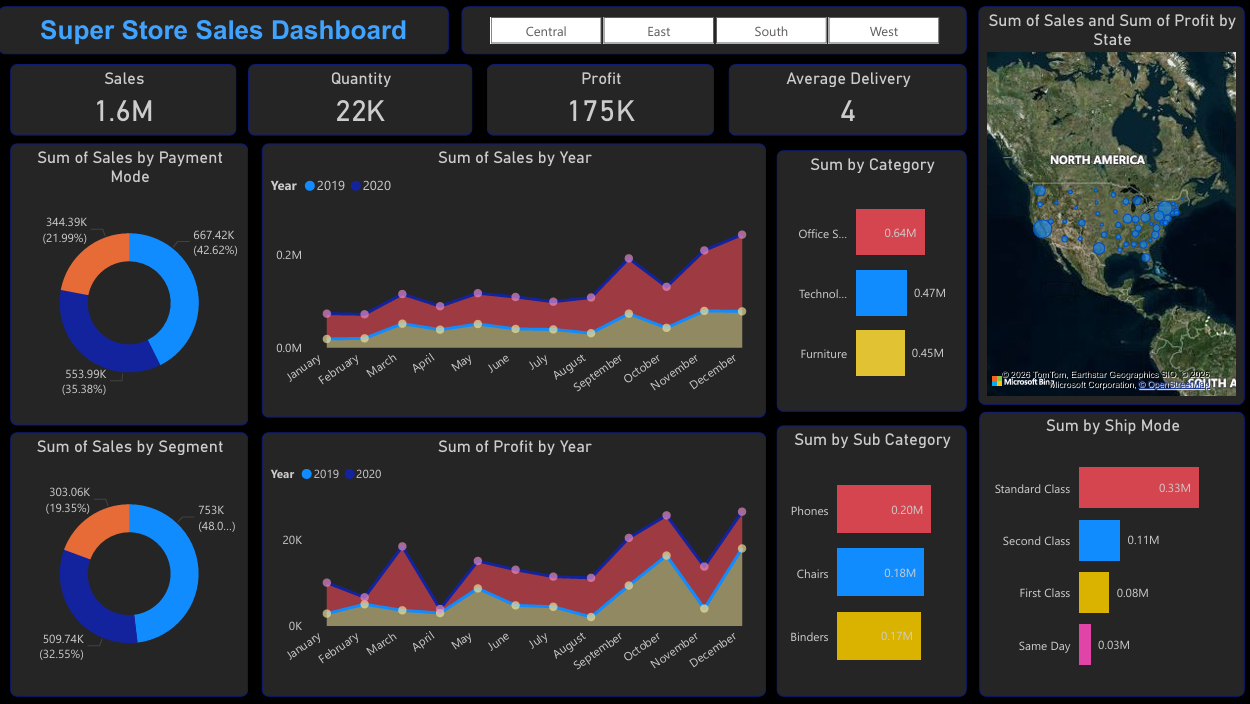

This screenshot's page, from the dashboard's own definition file:
{"tool":"powerbi","page":{"name":"Page 1","canvas":[1280,720],"ordinal":0},"visuals":[{"type":"clusteredBarChart","title":"Sum by Category","fields":{"Y":["Sum(SuperStore_Sales_Dataset.Sales)"],"Category":["SuperStore_Sales_Dataset.Category"]},"box":[794.5,153.7,194.9,267.6],"z":0},{"type":"clusteredBarChart","title":"Sum by Sub Category","fields":{"Y":["Sum(SuperStore_Sales_Dataset.Sales)"],"Category":["SuperStore_Sales_Dataset.Sub-Category"]},"box":[794.5,435,194.9,277.2],"z":1000},{"type":"clusteredBarChart","title":"Sum by Ship Mode","fields":{"Y":["Sum(SuperStore_Sales_Dataset.Sales)"],"Category":["SuperStore_Sales_Dataset.Ship Mode"]},"box":[1001.7,421.3,271.7,290.9],"z":2000},{"type":"stackedAreaChart","title":"Sum of Sales by Year","fields":{"Y":["Sum(SuperStore_Sales_Dataset.Sales)"],"Series":["SuperStore_Sales_Dataset.Order Date.Variation.Date Hierarchy.Year"],"Category":["SuperStore_Sales_Dataset.Order Date.Variation.Date Hierarchy.Month","SuperStore_Sales_Dataset.Order Date.Variation.Date Hierarchy.Day"]},"box":[269,146.8,514.6,279.9],"z":3000},{"type":"stackedAreaChart","title":"Sum of Profit by Year","fields":{"Series":["SuperStore_Sales_Dataset.Order Date.Variation.Date Hierarchy.Year"],"Category":["SuperStore_Sales_Dataset.Order Date.Variation.Date Hierarchy.Month","SuperStore_Sales_Dataset.Order Date.Variation.Date Hierarchy.Day"],"Y":["Sum(SuperStore_Sales_Dataset.Profit)"]},"box":[269,441.9,514.6,270.3],"z":4000},{"type":"map","fields":{"Category":["SuperStore_Sales_Dataset.State"],"Size":["Sum(SuperStore_Sales_Dataset.Sales)"]},"box":[1001.4,7.1,271.4,407.1],"z":5000},{"type":"donutChart","fields":{"Category":["SuperStore_Sales_Dataset.Segment"],"Y":["Sum(SuperStore_Sales_Dataset.Sales)"]},"box":[12.3,441.9,242.9,270.3],"z":6000},{"type":"donutChart","fields":{"Category":["SuperStore_Sales_Dataset.Payment Mode"],"Y":["Sum(SuperStore_Sales_Dataset.Sales)"]},"box":[12.3,146.8,242.9,288.2],"z":7000},{"type":"slicer","fields":{"Values":["SuperStore_Sales_Dataset.Region"]},"box":[472.9,7.1,515.7,48.6],"z":8000},{"type":"textbox","box":[0,7.1,460,48.6],"z":9000},{"type":"card","title":"Sales","fields":{"Values":["Sum(SuperStore_Sales_Dataset.Sales)"]},"box":[12.3,65.9,230.5,72.7],"z":10000},{"type":"card","title":"Quantity","fields":{"Values":["Sum(SuperStore_Sales_Dataset.Quantity)"]},"box":[255.2,65.9,229.2,72.7],"z":11000},{"type":"card","title":"Profit","fields":{"Values":["Sum(SuperStore_Sales_Dataset.Profit)"]},"box":[499.5,65.9,231.9,72.7],"z":12000},{"type":"card","title":"Average Delivery","fields":{"Values":["Avg(SuperStore_Sales_Dataset.AvgDelivery)"]},"box":[746.5,65.9,242.9,72.7],"z":13000}]}

Visuals, with their boxes in screenshot pixels (x1, y1, x2, y2), scaled from the page's 1280x720 canvas onto the 1250x704 screenshot:
"Sum by Category" clusteredBarChart: crop(776, 150, 966, 412)
"Sum by Sub Category" clusteredBarChart: crop(776, 425, 966, 696)
"Sum by Ship Mode" clusteredBarChart: crop(978, 412, 1244, 696)
"Sum of Sales by Year" stackedAreaChart: crop(263, 144, 765, 417)
"Sum of Profit by Year" stackedAreaChart: crop(263, 432, 765, 696)
map - SuperStore_Sales_Dataset.State x Sum(SuperStore_Sales_Dataset.Sales): crop(978, 7, 1243, 405)
donutChart - SuperStore_Sales_Dataset.Segment x Sum(SuperStore_Sales_Dataset.Sales): crop(12, 432, 249, 696)
donutChart - SuperStore_Sales_Dataset.Payment Mode x Sum(SuperStore_Sales_Dataset.Sales): crop(12, 144, 249, 425)
slicer - SuperStore_Sales_Dataset.Region: crop(462, 7, 965, 54)
textbox: crop(0, 7, 449, 54)
"Sales" card: crop(12, 64, 237, 136)
"Quantity" card: crop(249, 64, 473, 136)
"Profit" card: crop(488, 64, 714, 136)
"Average Delivery" card: crop(729, 64, 966, 136)
